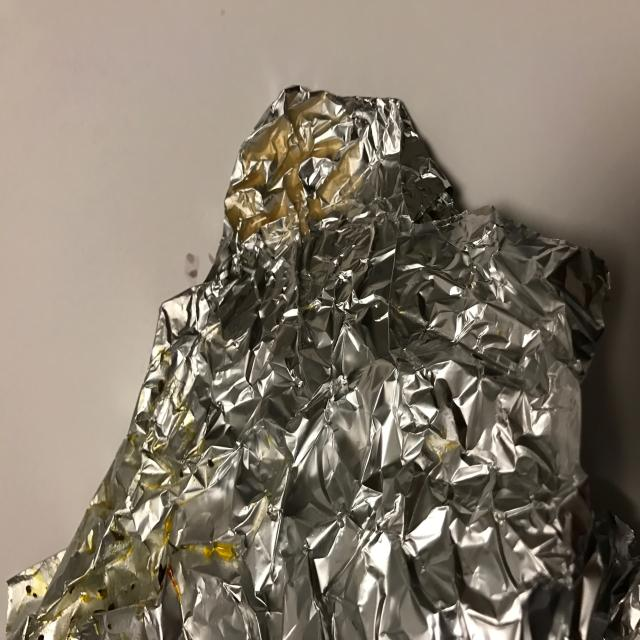metal: (6, 84, 636, 638)
